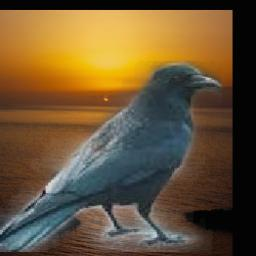Crow: (0, 61, 222, 252)
